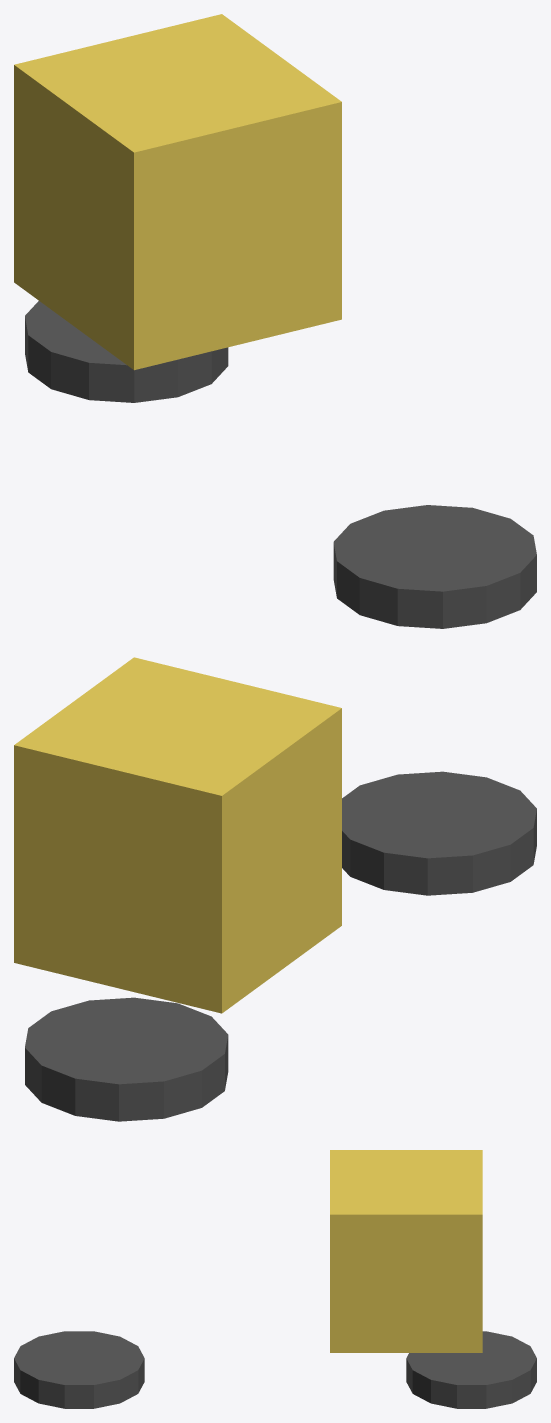
The model's file is delivery_bike.glb.
3 views of the same model, one above another, from view 1: azimuth 30°, elevation 25°; view 2: azimuth 150°, elevation 25°; view 3: azimuth 270°, elevation 25° (orthographic). The views are drawn at different scales.
Visible parts, largest first — view 1: box, wheel_f, wheel_r; view 2: box, wheel_r, wheel_f; view 3: box, wheel_f, wheel_r.
Part boxes in pixels (x1,y1,x2,y2): box: [14, 14, 341, 370]; wheel_f: [333, 505, 536, 628]; wheel_r: [25, 301, 228, 402]; box: [14, 657, 341, 1013]; wheel_r: [25, 997, 228, 1121]; wheel_f: [342, 771, 536, 895]; box: [330, 1150, 482, 1352]; wheel_f: [14, 1331, 144, 1408]; wheel_r: [406, 1331, 536, 1408].
Size of the model in its own units: 0.7002 by 1.01 by 2.4.
